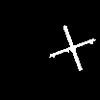single_crochet: (50, 26, 94, 70)
